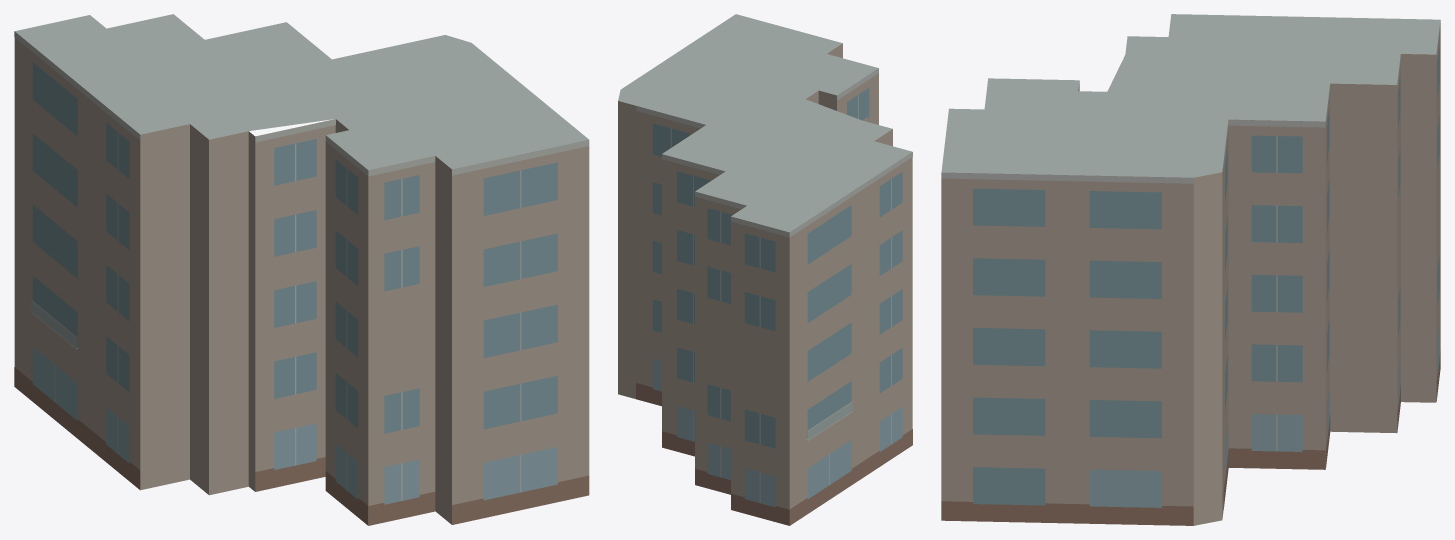
File: survey-upis-32653816.glb
The picture shows the model from 3 angles, left to right: view 1: azimuth 30°, elevation 25°; view 2: azimuth 150°, elevation 25°; view 3: azimuth 270°, elevation 25°; orthographic projection. The views are drawn at different scales.
Parts seen in each view (by area): view 1: survey-upis-32653816.tmp; view 2: survey-upis-32653816.tmp; view 3: survey-upis-32653816.tmp.
Boxes of the visible parts, box(x1,y1,x2,y2) form: survey-upis-32653816.tmp: box(14, 14, 589, 525); survey-upis-32653816.tmp: box(618, 14, 912, 525); survey-upis-32653816.tmp: box(941, 14, 1440, 525).
Size of the model in its own units: 14.23 by 14.1 by 18.33.
